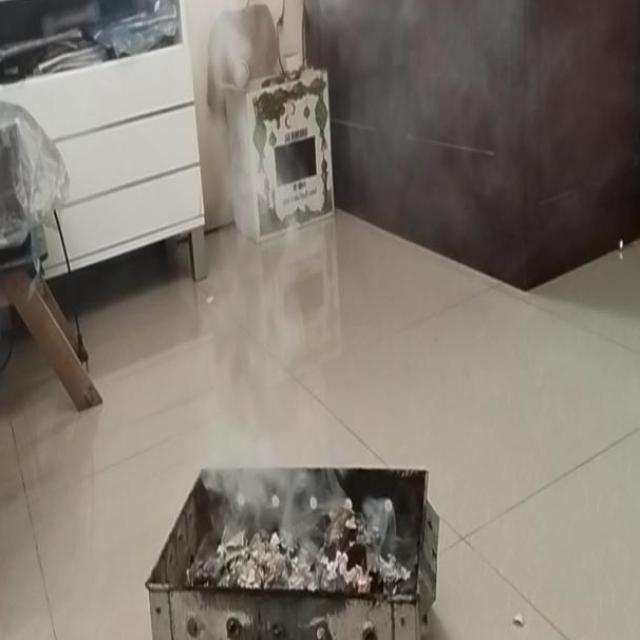fire: (194, 160, 334, 534)
